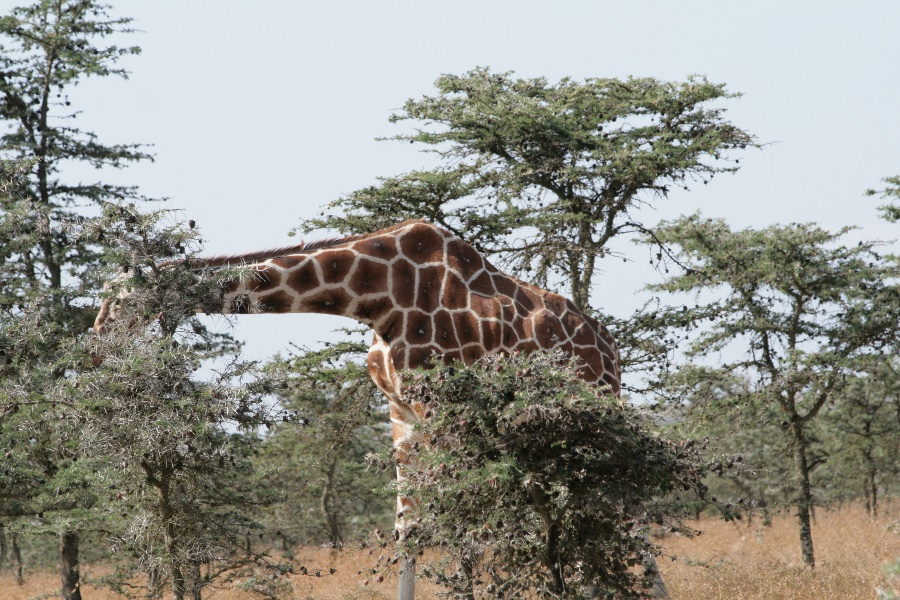giraffe: (90, 206, 637, 426)
